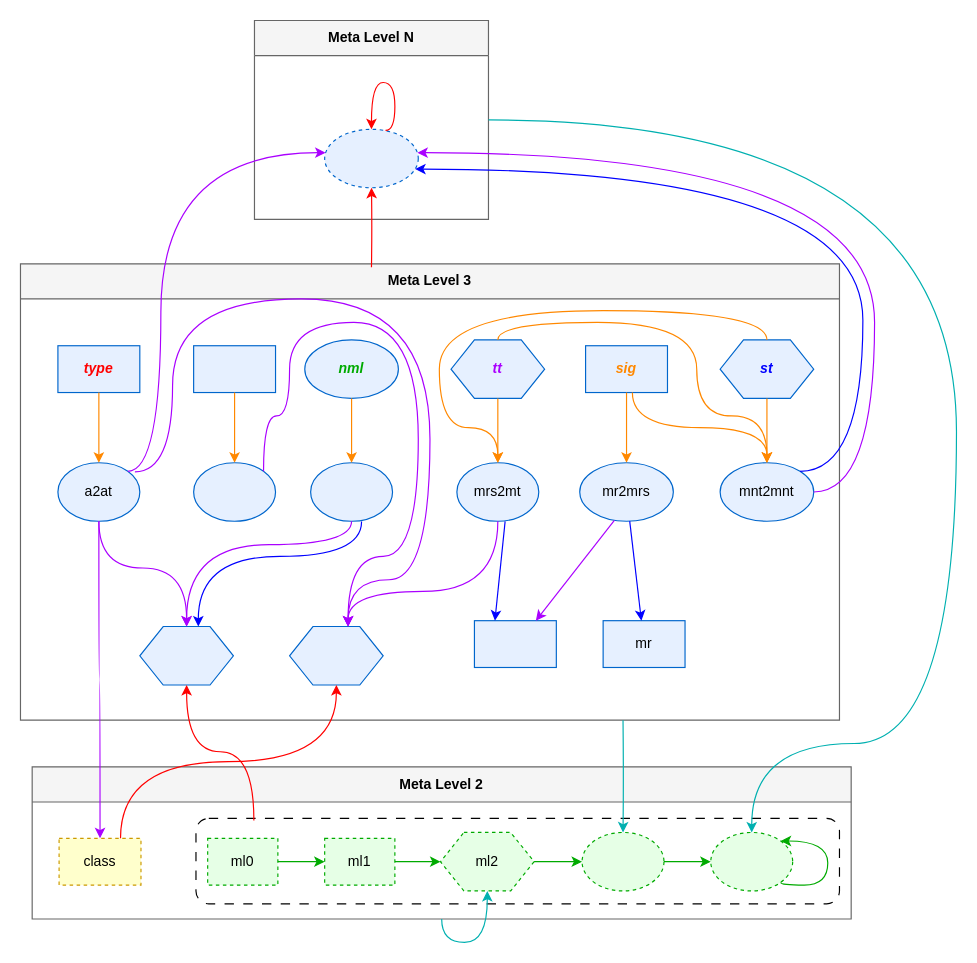
Image size: 977x963. Some labels were removed from this diagram. The centre of each missing label's shape, as x and y in pixels:
"a2mlt" goes at (x=234, y=491).
"ml" goes at (x=234, y=369).
"ml2ml" goes at (x=351, y=491).
"ml3" goes at (x=622, y=861).
"mlN" goes at (x=751, y=861).
"mlt" goes at (x=186, y=655).
"mnt" goes at (x=371, y=158).
"mrs" goes at (x=514, y=643).
"mt" goes at (x=335, y=655).
